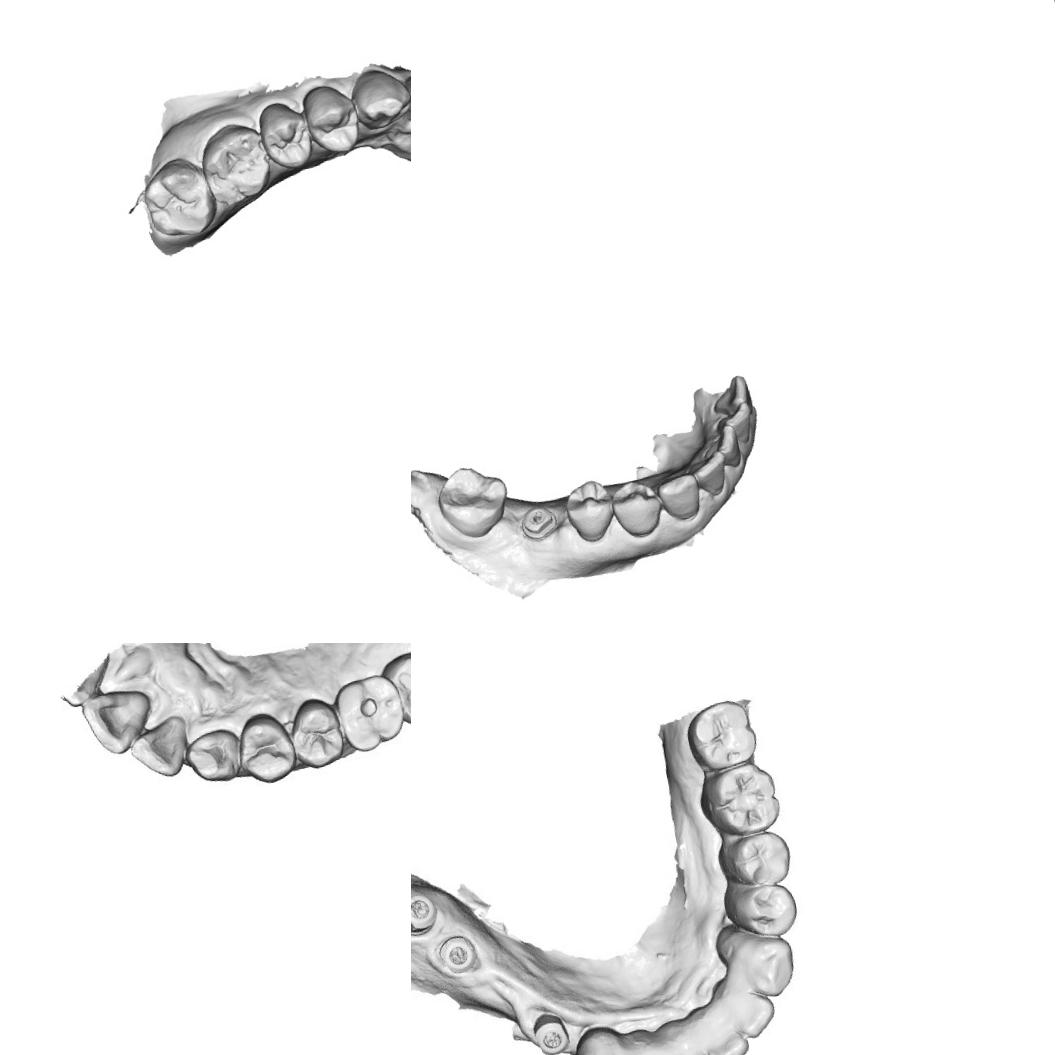canine: (726, 924, 802, 1006), (344, 60, 411, 132), (179, 722, 244, 788), (654, 471, 704, 524), (564, 1020, 635, 1055)
implant: (525, 1005, 573, 1055), (431, 934, 482, 978), (411, 886, 443, 939)
implant_minus: (516, 500, 560, 544)
incisor: (77, 681, 163, 761), (122, 716, 194, 784), (718, 979, 780, 1043), (696, 1004, 756, 1055), (698, 421, 744, 472), (688, 449, 732, 500), (712, 400, 758, 448), (706, 372, 752, 415), (663, 1030, 720, 1055), (620, 1036, 676, 1055)
molar: (192, 116, 278, 213), (138, 150, 222, 246), (698, 758, 786, 842), (430, 458, 515, 544), (329, 668, 409, 756), (680, 695, 761, 777), (378, 643, 411, 731)
premolar: (724, 878, 805, 948), (297, 78, 365, 161), (254, 94, 319, 176), (716, 828, 794, 894), (234, 710, 298, 786), (284, 694, 347, 771), (560, 476, 620, 546), (606, 475, 666, 540)
